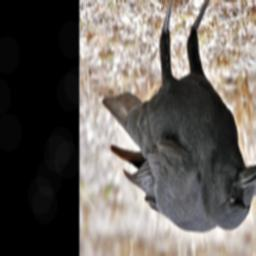Crow: (102, 0, 256, 233)
